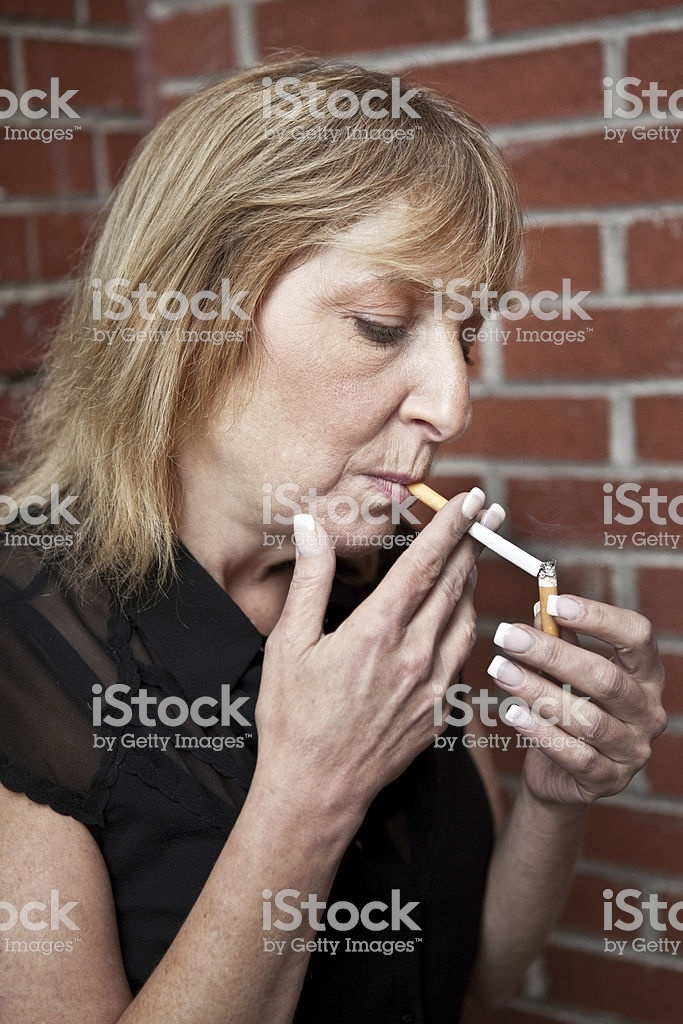sigaretta: (400, 464, 550, 577)
